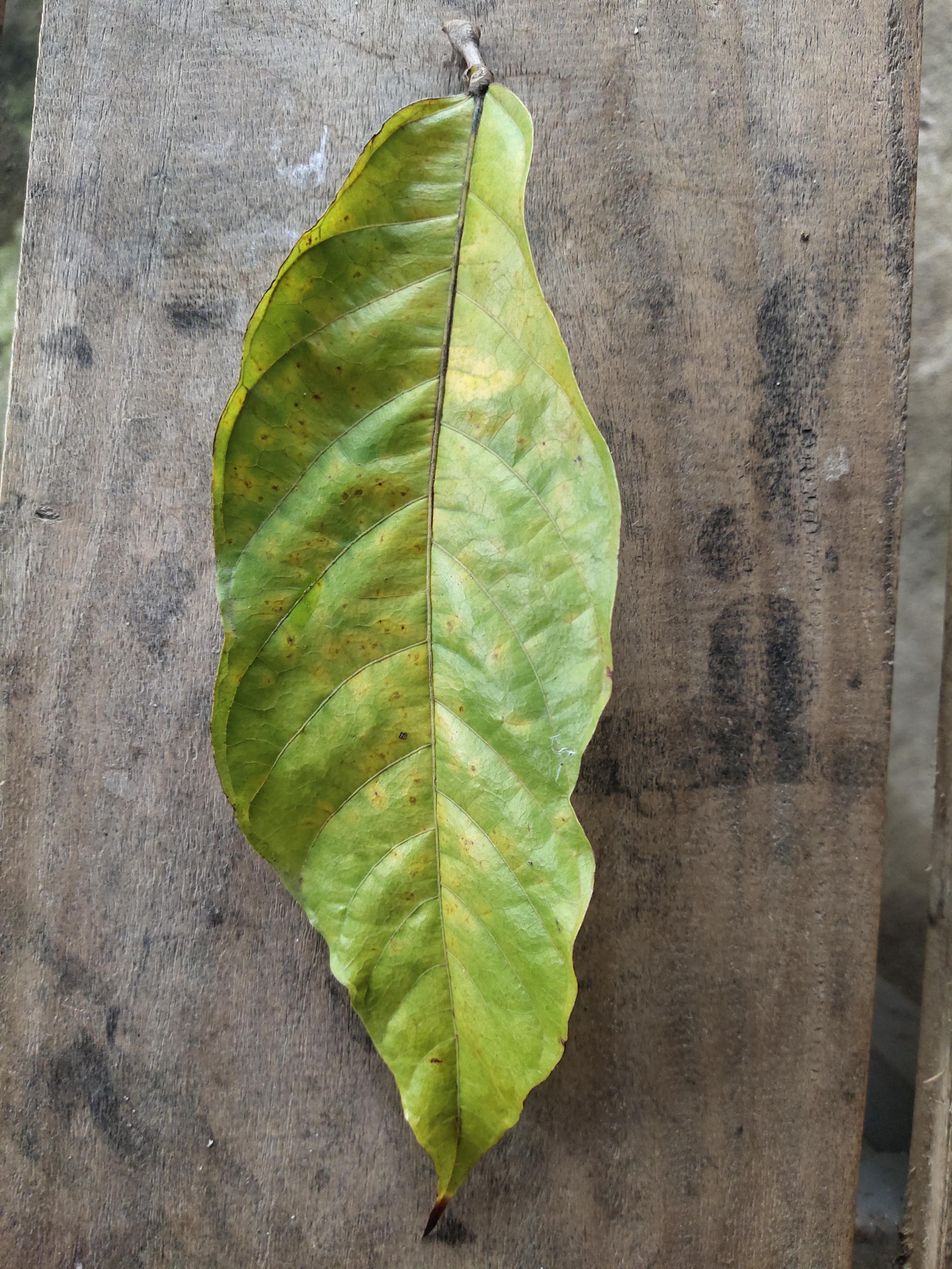deficiencia_potasio: (202, 81, 626, 1212)
